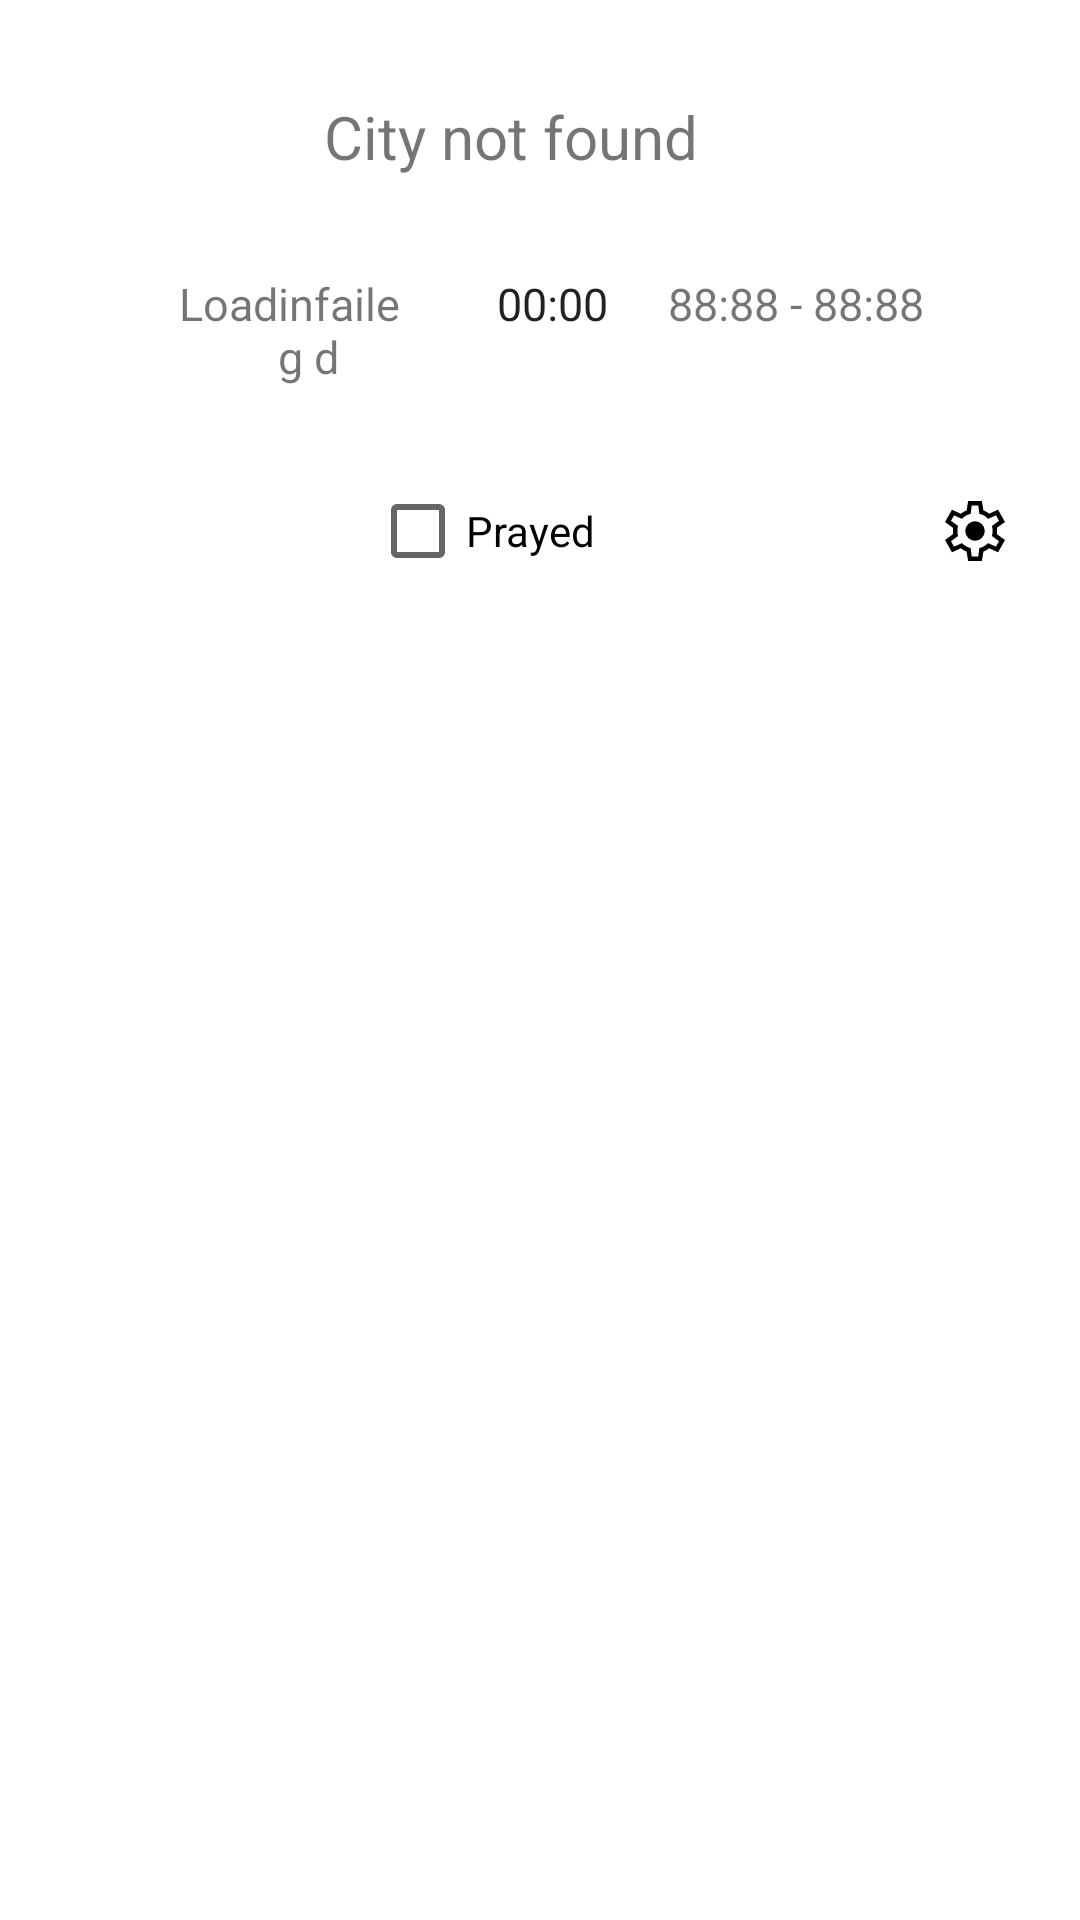

Where icons sit on this 1080w x 1920h app screen, as (x1, y1, x2, y2):
settings: (945, 501, 1005, 561)
